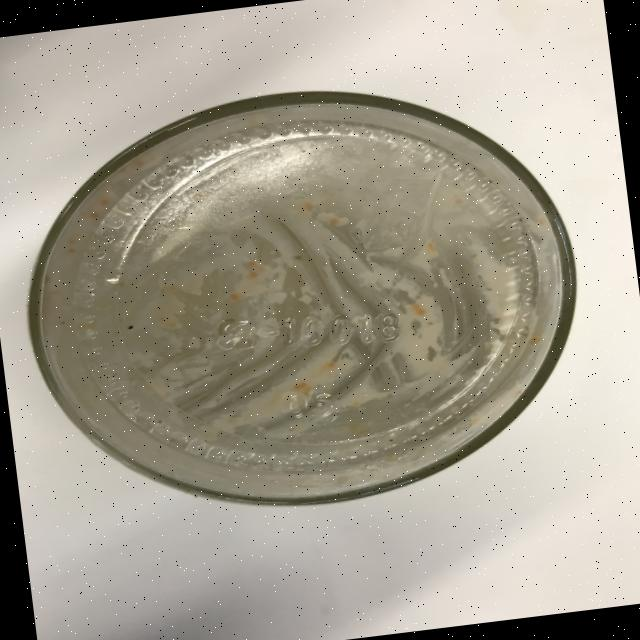glass: (2, 61, 586, 528)
